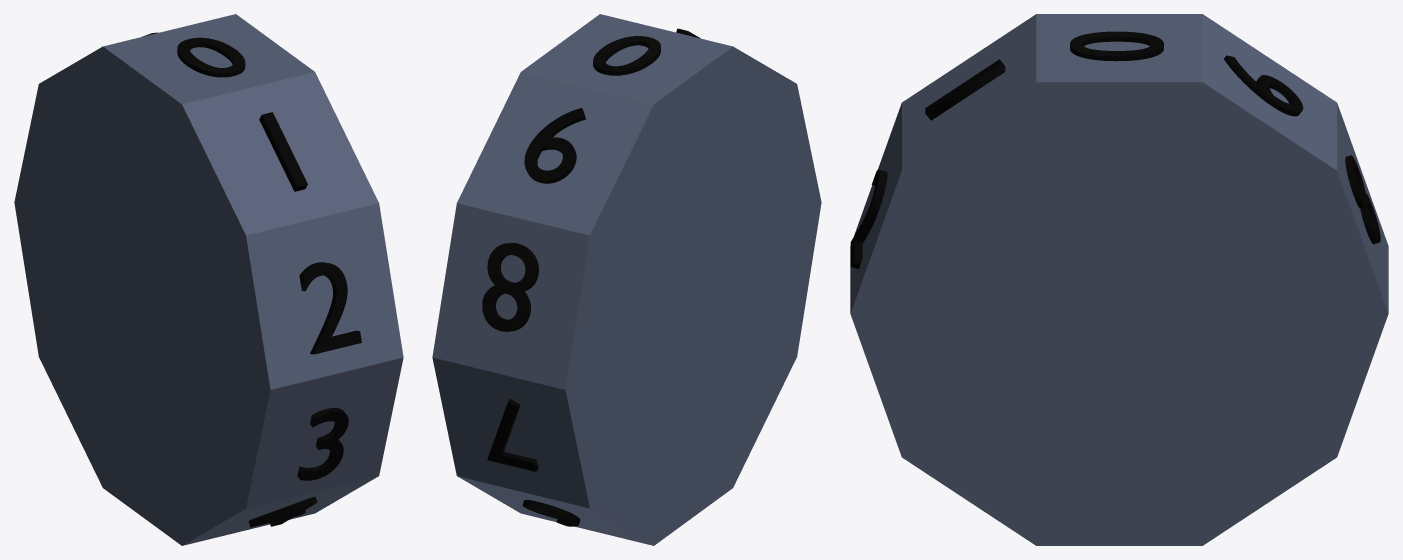
The model's file is Lock.fbx.
3 views of the same model, side by side, from view 1: azimuth 30°, elevation 25°; view 2: azimuth 150°, elevation 25°; view 3: azimuth 270°, elevation 25° (orthographic). The views are drawn at different scales.
Parts seen in each view (by area): view 1: Lock; view 2: Lock; view 3: Lock.
Part boxes in pixels (x1=…): Lock: x1=14, y1=14, x2=403, y2=545; Lock: x1=432, y1=14, x2=821, y2=545; Lock: x1=850, y1=14, x2=1388, y2=545.
Size of the model in its own units: 60 by 194 by 200.
Materials: 1 (1 with a texture image).
